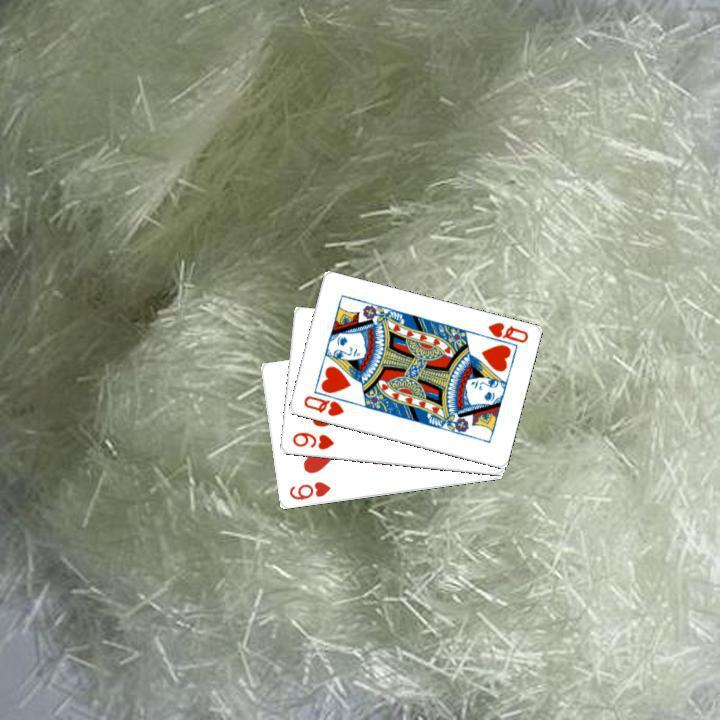6: (284, 478, 332, 503)
9: (287, 428, 336, 452)
Q: (475, 318, 530, 350), (299, 391, 346, 419)
